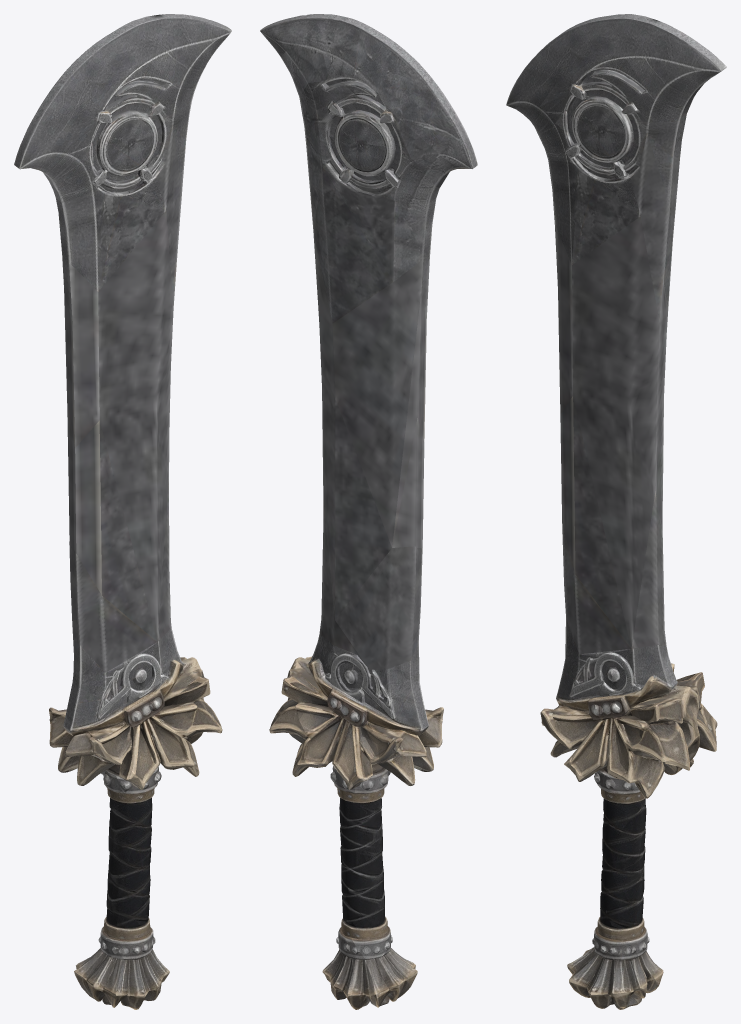
The model's file is sword.glb.
3 views of the same model, side by side, from view 1: azimuth 30°, elevation 25°; view 2: azimuth 150°, elevation 25°; view 3: azimuth 330°, elevation 25° (orthographic).
Parts seen in each view (by area): view 1: output_unwrapped; view 2: output_unwrapped; view 3: output_unwrapped.
Part boxes in pixels (<box>): output_unwrapped: <box>14,14,231,1009</box>; output_unwrapped: <box>260,14,477,1009</box>; output_unwrapped: <box>506,14,726,1009</box>.
Bounding box in the file's own units: 0.4324 × 1.9 × 0.2049.
1 material, 1 textured.
